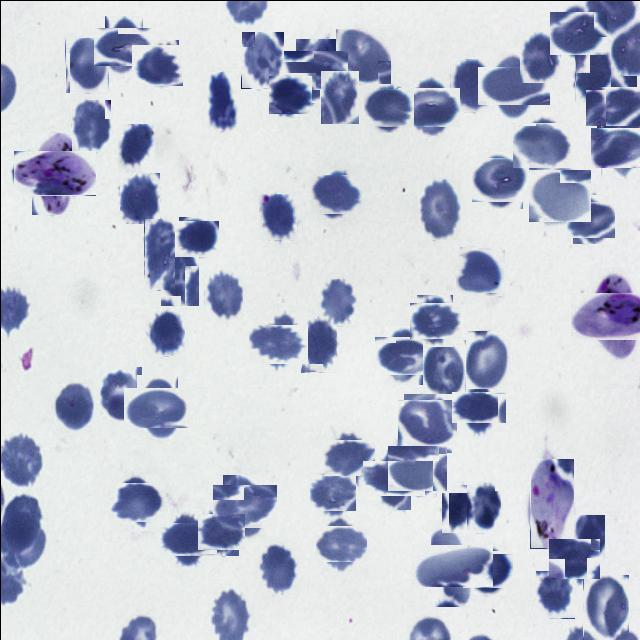difficult: (580, 282, 640, 350)
red blood cell: (420, 534, 482, 596), (530, 166, 588, 223), (334, 28, 390, 84), (582, 574, 628, 640), (486, 58, 541, 112), (217, 479, 271, 533), (400, 396, 454, 449), (130, 381, 184, 434), (515, 118, 567, 172), (391, 441, 443, 494), (416, 178, 460, 240), (462, 330, 509, 388), (290, 44, 342, 96), (422, 339, 465, 400), (402, 81, 453, 132), (474, 154, 525, 205), (98, 20, 148, 70), (252, 318, 302, 368), (552, 8, 602, 58), (590, 81, 640, 131), (64, 36, 108, 92), (240, 31, 283, 88), (368, 453, 417, 502), (51, 378, 93, 434), (378, 331, 428, 378), (594, 122, 640, 173), (99, 366, 141, 421), (111, 478, 159, 526), (456, 247, 504, 294), (143, 218, 174, 290), (518, 31, 560, 83), (159, 250, 198, 306), (313, 170, 359, 217), (450, 58, 490, 112), (257, 540, 297, 594), (70, 99, 110, 152), (164, 516, 210, 562), (134, 42, 180, 88), (550, 535, 596, 581), (319, 70, 358, 124), (203, 269, 242, 322), (119, 172, 159, 223), (204, 71, 238, 131), (366, 85, 411, 129), (315, 278, 356, 326), (300, 318, 336, 372), (318, 521, 362, 565), (465, 547, 509, 591), (412, 298, 456, 342), (326, 435, 370, 479), (534, 570, 574, 618), (116, 122, 154, 172), (457, 385, 500, 429), (574, 48, 610, 100), (257, 193, 296, 240), (465, 482, 500, 533), (312, 471, 354, 513), (569, 198, 611, 240), (199, 510, 241, 552), (146, 310, 184, 356), (268, 74, 310, 114), (176, 218, 217, 258), (440, 484, 472, 533), (572, 514, 604, 558)
trophozoite: (22, 141, 86, 205), (529, 458, 573, 548)
